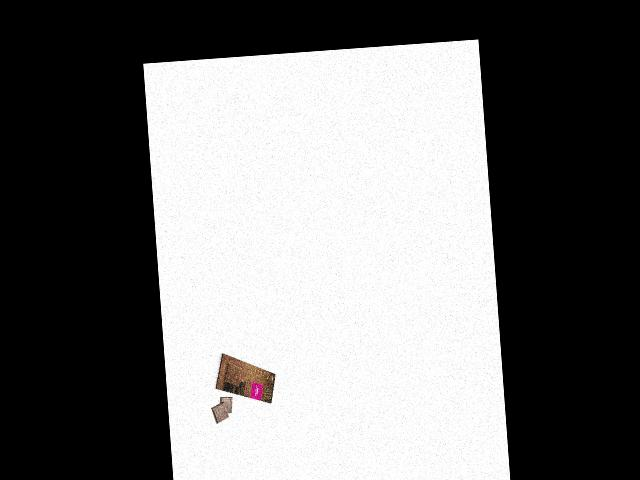chocolate: (211, 349, 278, 408)
